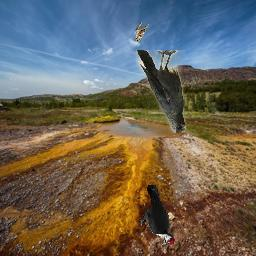Crow: (136, 51, 186, 134)
Sparrow: (135, 23, 150, 42)
Woodpecker: (137, 185, 175, 245)
